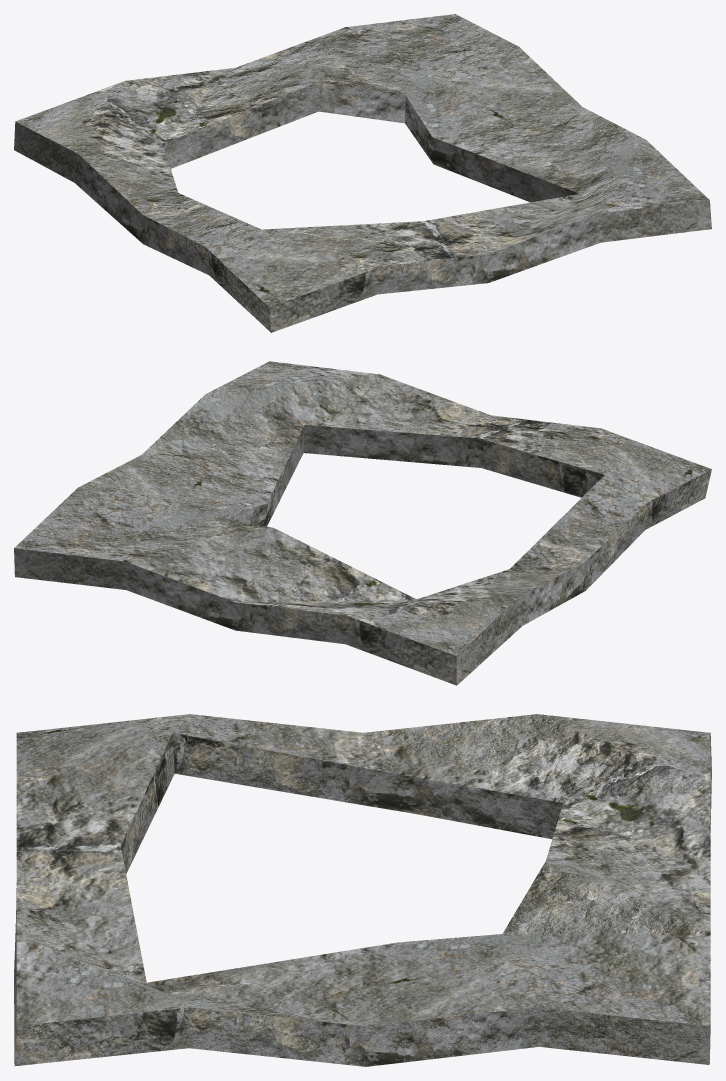
The model's file is UWHoleFloor.fbx.
3 views of the same model, one above another, from view 1: azimuth 30°, elevation 25°; view 2: azimuth 150°, elevation 25°; view 3: azimuth 270°, elevation 25° (orthographic). The views are drawn at different scales.
Parts seen in each view (by area): view 1: UWHoleFloor; view 2: UWHoleFloor; view 3: UWHoleFloor.
Boxes of the visible parts, x1,y1,x2,y2 form: UWHoleFloor: [14, 14, 711, 332]; UWHoleFloor: [14, 361, 711, 685]; UWHoleFloor: [14, 714, 711, 1066].
Size of the model in its own units: 811 by 107 by 804.
